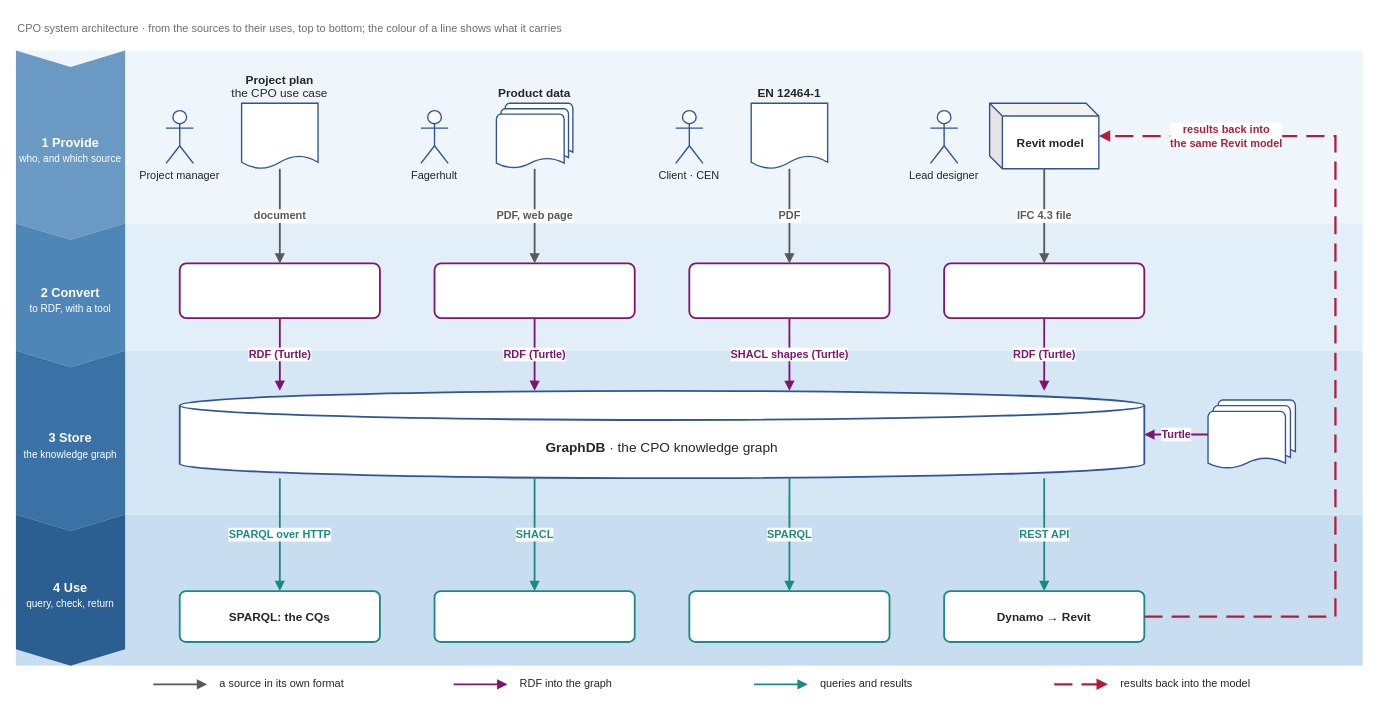
The diagram is 1378 pixels wide and 710 high, and some of its shapes have lost their labels. The centre of each missing label's shape, as x and y in pixels:
"Analysis: lux per room" goes at [789,616].
"CPO modules Protégé" goes at [1251,434].
"IFC to RDF IfcOpenShell · IFCtoLBD" goes at [1044,290].
"Product data to RDF Protégé · QUDT units" goes at [534,290].
"Project data to RDF Protégé" goes at [279,290].
"Requirements to SHACL LOIN as SHACL shapes" goes at [789,290].
"SHACL report" goes at [534,616].
